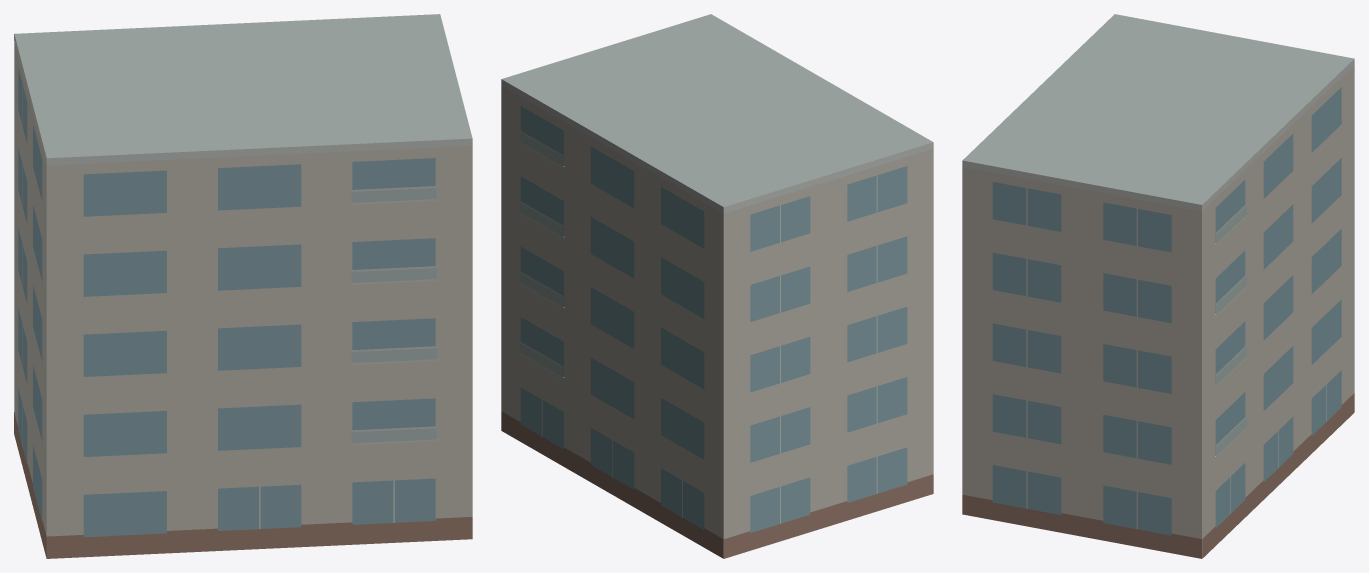
The model's file is survey-upis-32489775.glb.
3 views of the same model, side by side, from view 1: azimuth 30°, elevation 25°; view 2: azimuth 150°, elevation 25°; view 3: azimuth 270°, elevation 25° (orthographic). The views are drawn at different scales.
Parts seen in each view (by area): view 1: survey-upis-32489775.tmp; view 2: survey-upis-32489775.tmp; view 3: survey-upis-32489775.tmp.
Boxes of the visible parts, x1,y1,x2,y2 form: survey-upis-32489775.tmp: (14,14,472,558); survey-upis-32489775.tmp: (501,14,933,558); survey-upis-32489775.tmp: (962,14,1354,558).
Size of the model in its own units: 15.57 by 13.45 by 13.52.
